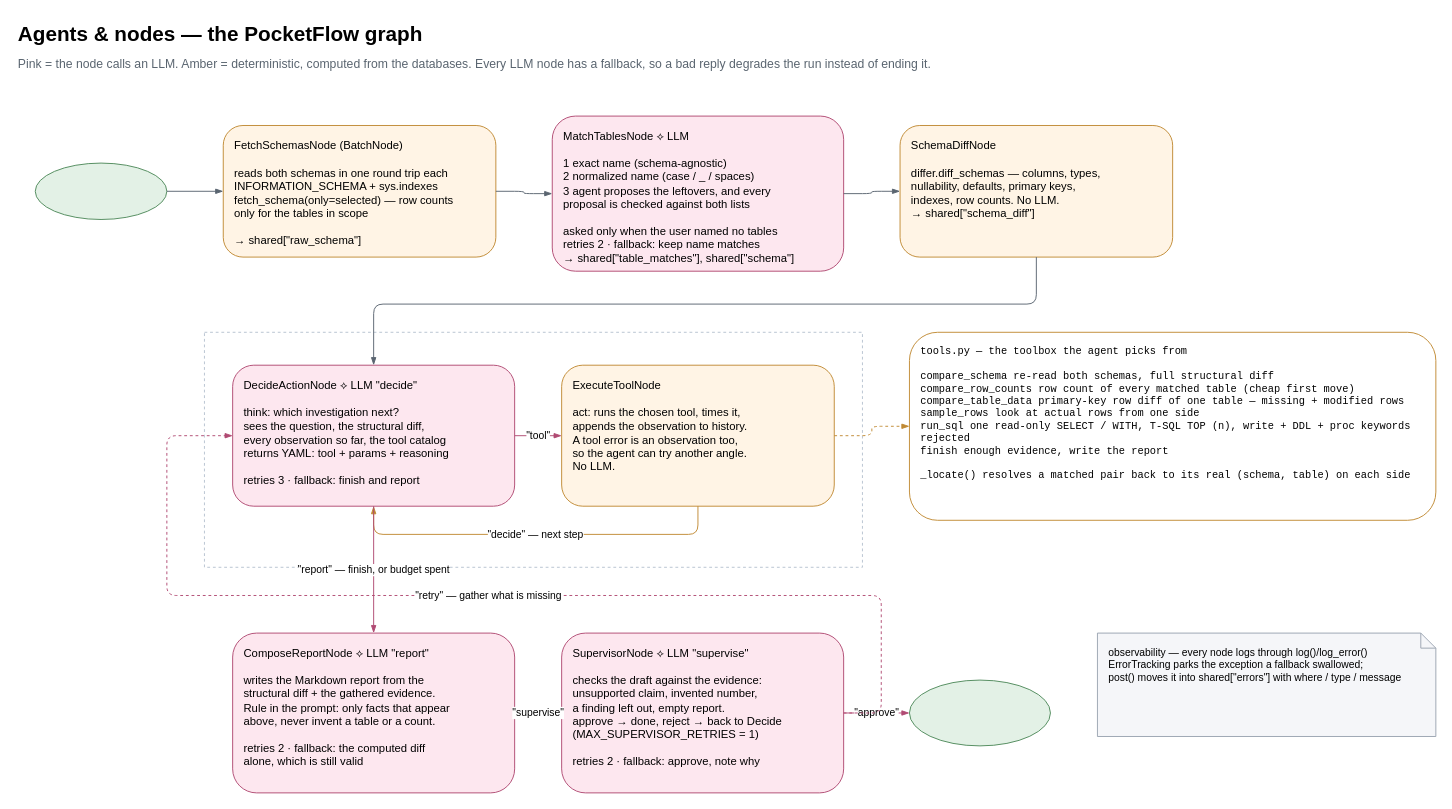
Some shapes in this 1452 by 809 pixel diagram are drawn without their labels. Each missing label, with the box of its shape:
DoneNode run complete: (909, 679, 1050, 746)
run_comparison(): (34, 162, 167, 219)
the agent loop — budget MAX_AGENT_STEPS (8): (204, 331, 862, 567)
